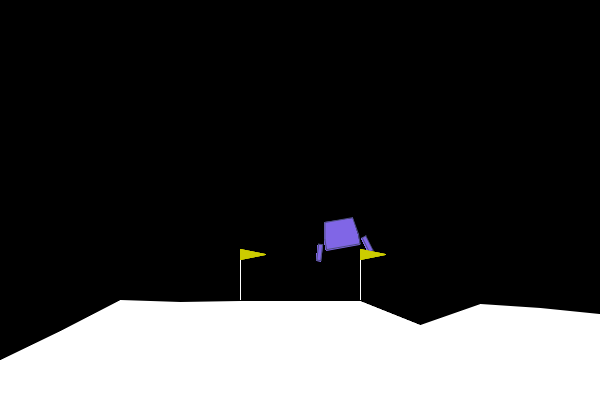lander: (308, 213, 374, 263)
